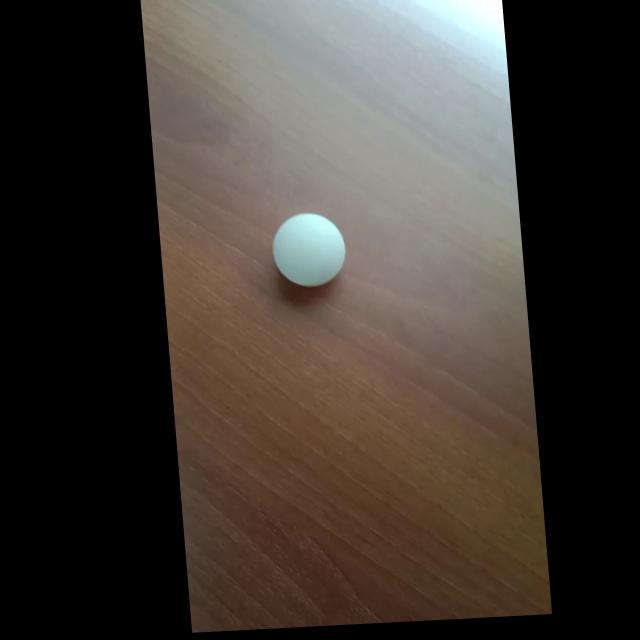white ball: (268, 210, 349, 290)
